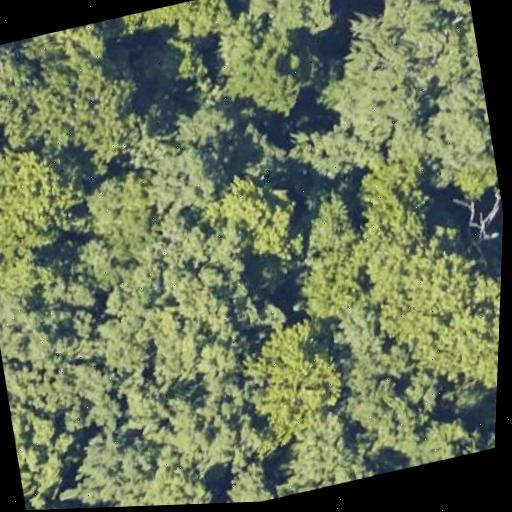tree-top: (313, 222, 503, 422), (0, 28, 149, 177), (125, 259, 278, 397), (0, 259, 120, 422), (137, 356, 274, 479), (204, 2, 327, 127), (315, 13, 424, 153), (0, 130, 96, 287), (239, 310, 354, 441), (343, 0, 484, 97), (410, 74, 505, 210), (213, 157, 310, 268), (138, 130, 234, 229), (338, 363, 431, 460), (285, 230, 372, 328), (59, 417, 150, 509), (73, 162, 163, 254), (281, 405, 368, 491), (353, 154, 443, 237), (283, 110, 366, 189), (7, 400, 68, 507), (110, 0, 235, 50), (293, 179, 366, 257), (160, 87, 241, 157), (246, 0, 355, 49), (87, 309, 156, 386), (123, 453, 219, 507), (401, 411, 481, 467), (6, 21, 108, 62), (216, 455, 283, 503), (25, 493, 93, 510)
